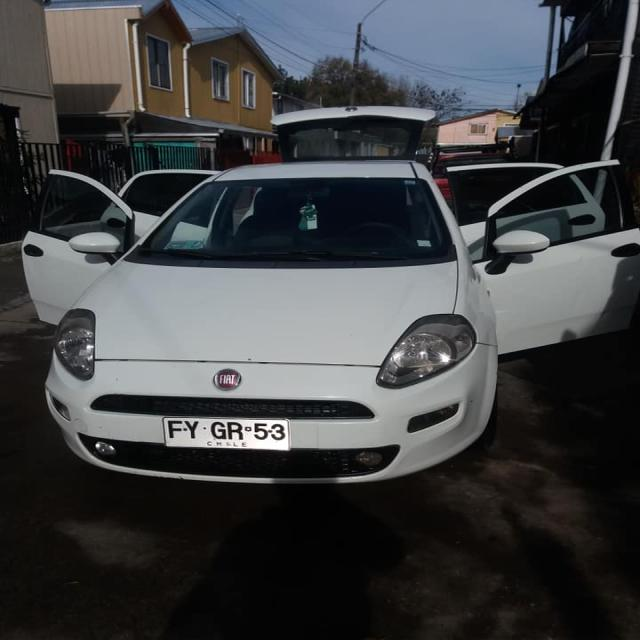patente: (161, 416, 291, 452)
